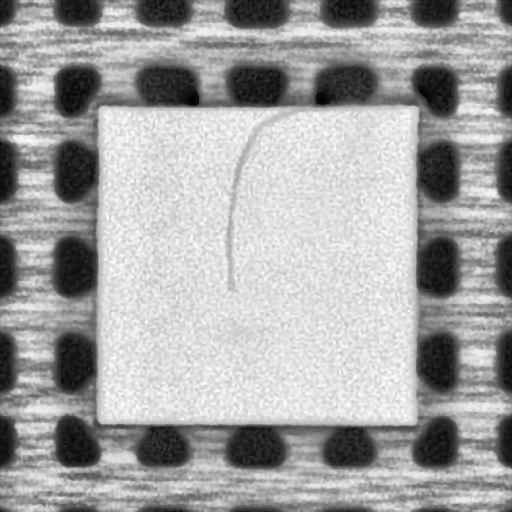DIE_CRACK: (222, 105, 314, 288)
